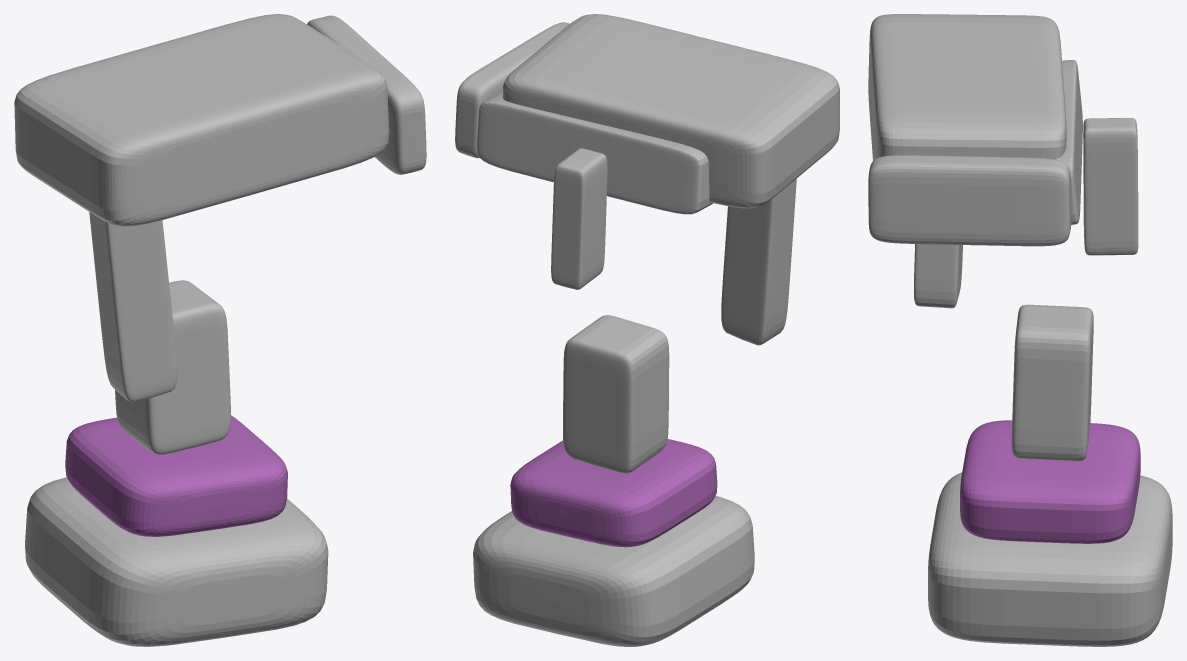
The model's file is edited_abstraction_categorized.glb.
3 views of the same model, side by side, from view 1: azimuth 30°, elevation 25°; view 2: azimuth 150°, elevation 25°; view 3: azimuth 270°, elevation 25° (orthographic). The views are drawn at different scales.
Visible parts, largest first — view 1: world; view 2: world; view 3: world.
Part boxes in pixels (box(x1,y1,x2,y2)): world: box(14, 14, 426, 646); world: box(455, 14, 839, 646); world: box(868, 14, 1172, 646).
Bounding box in the file's own units: 0.4532 × 0.7366 × 0.3823.
